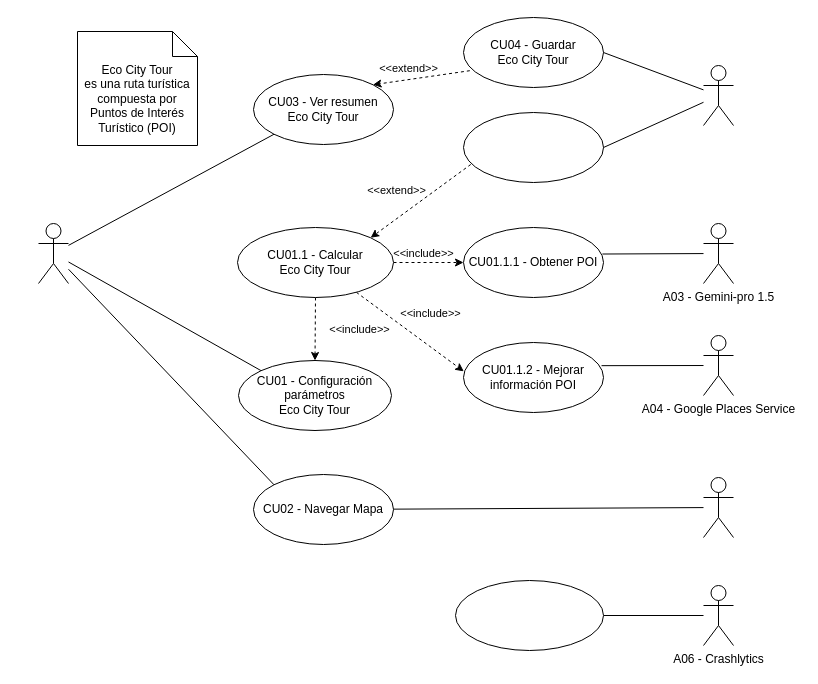
This 818x684 diagram has some shape labels left out. The box of each missing label's shape, as (x1, y1, x2, y2) in pixels:
A01 - Usuario: (38, 222, 68, 284)
A02 - Cloud Firestore: (702, 64, 734, 126)
A05 - Google Direction Service: (702, 476, 734, 538)
CU05 - Cargar Eco City Tour: (462, 112, 604, 182)
CU06 - Registro de log: (454, 580, 604, 650)
